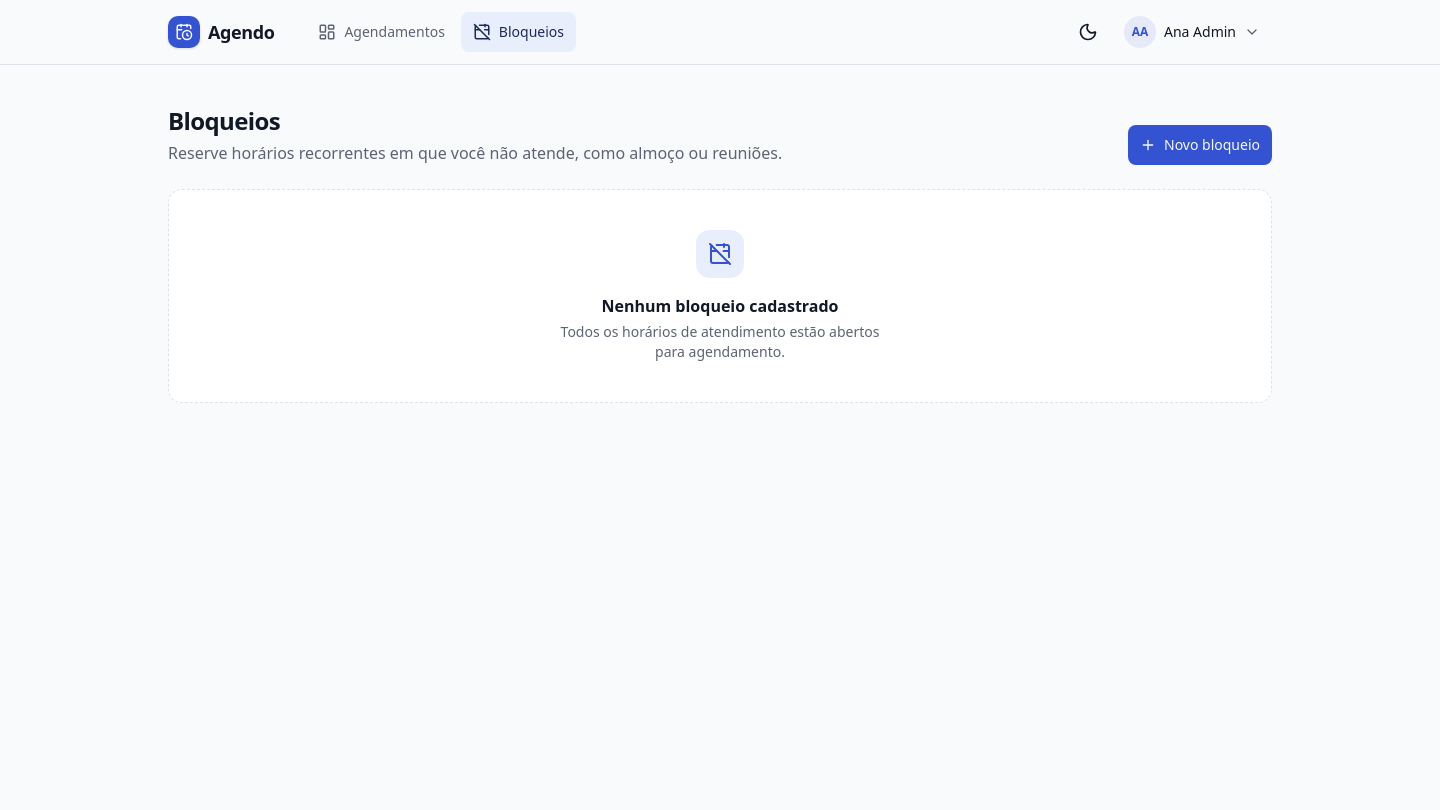
Test case: ScheduleBlocksPage › picks weekdays with the shortcuts and lists the appointments a new block would hit
Click the button "Novo bloqueio" at (1200, 145), box [1128,125,1272,165]
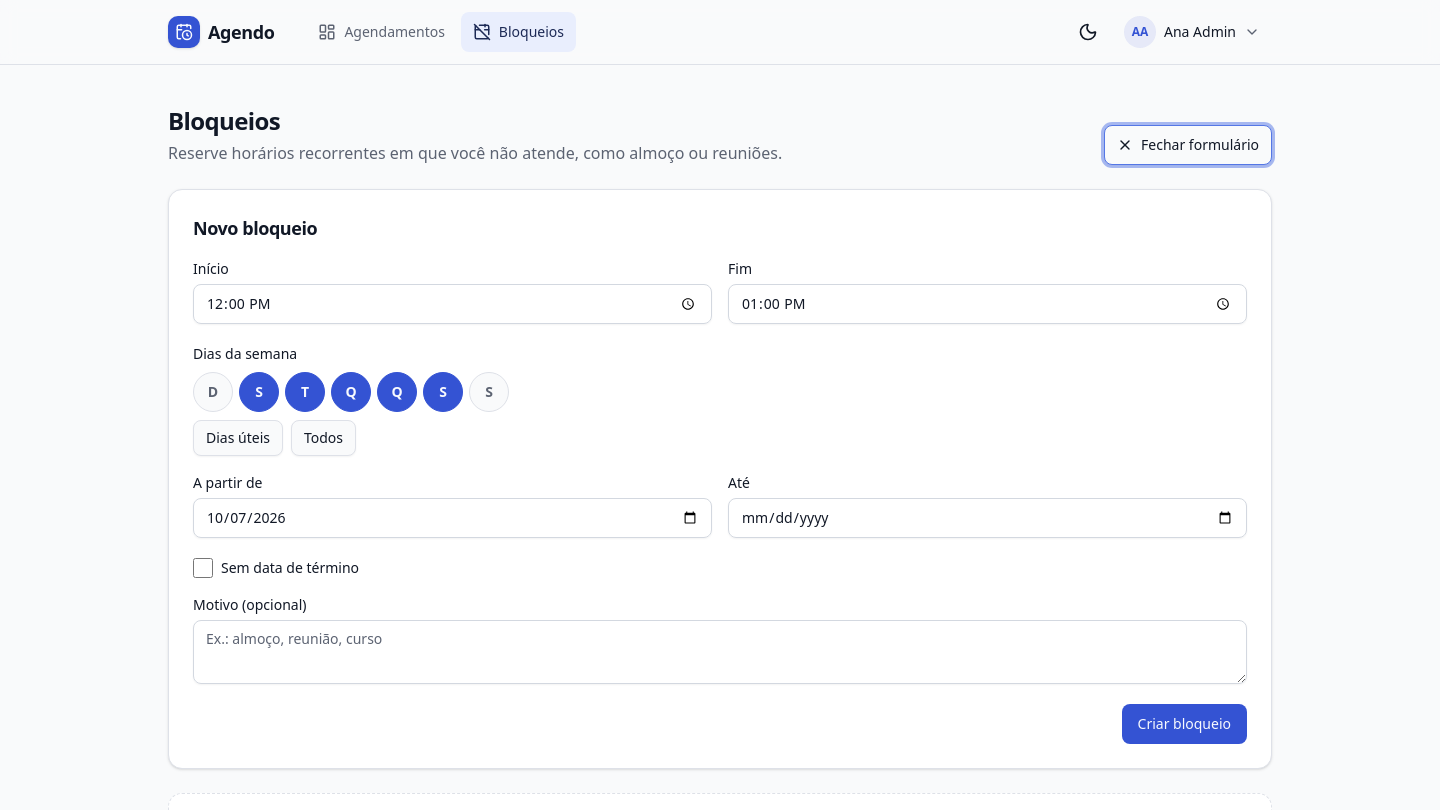
Click the button "Todos" at (324, 438), box [291,420,356,456]
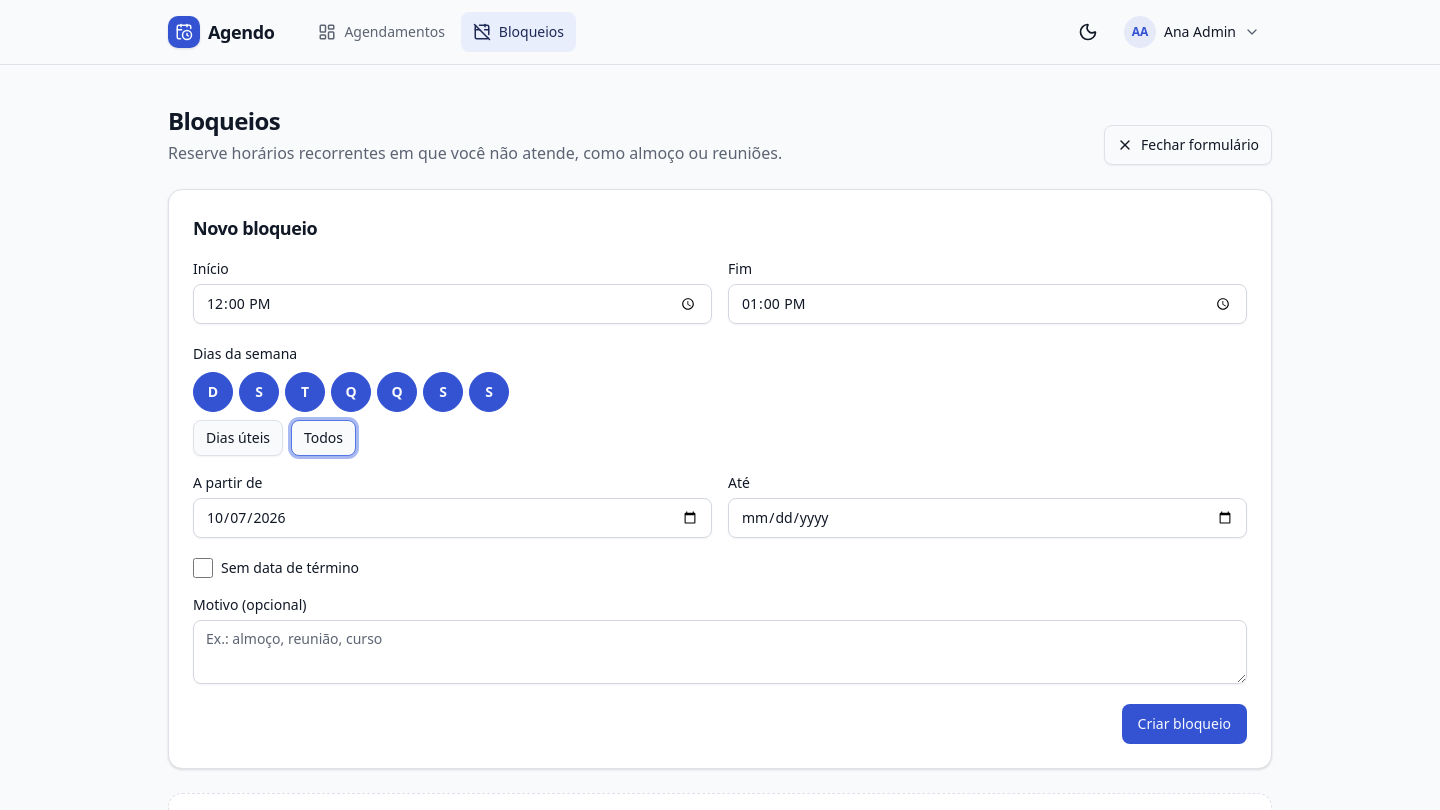
Click the button named "Domingo" at (213, 392), box [193,372,233,412]
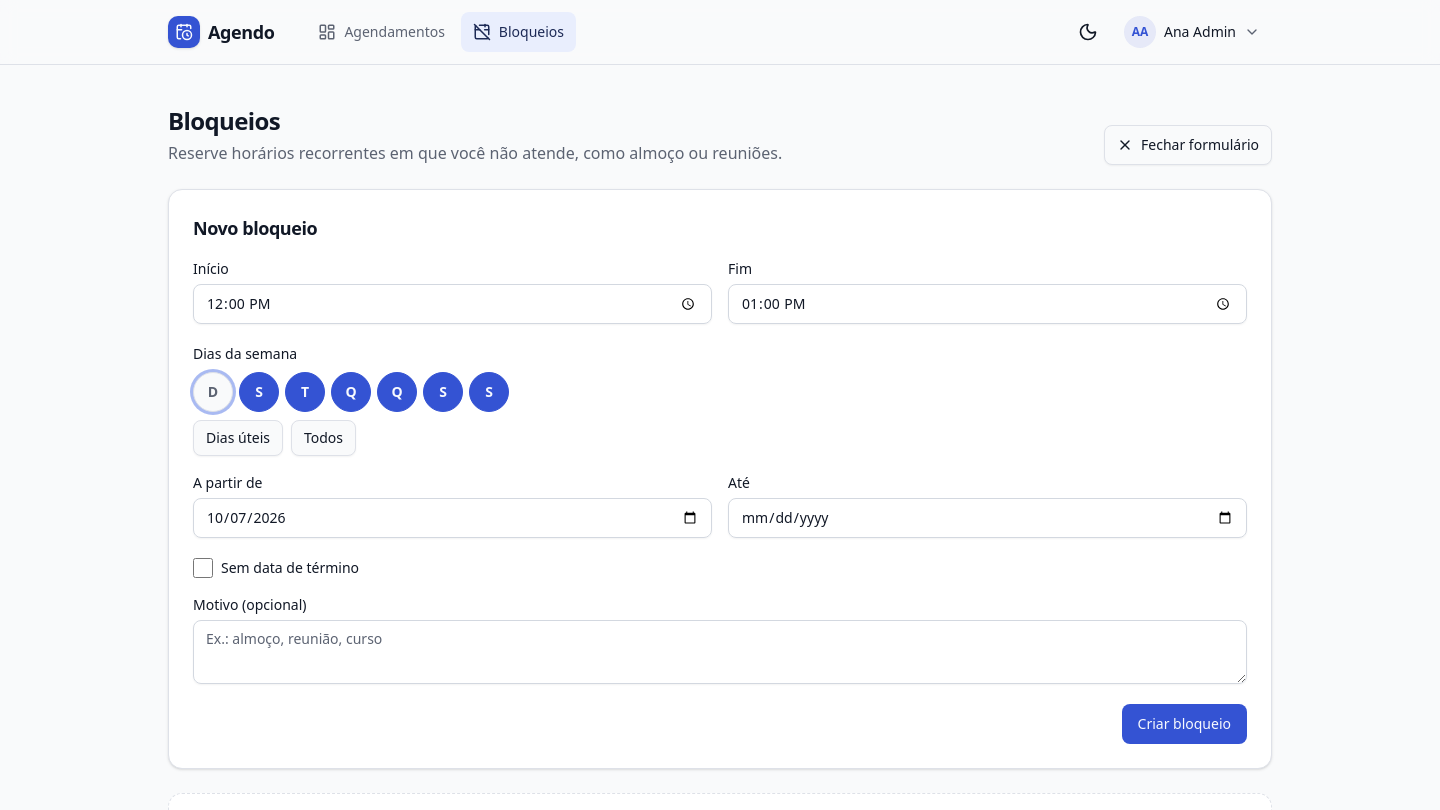
Click the checkbox labelled "Sem data de término" at (203, 568), box [193,558,213,578]
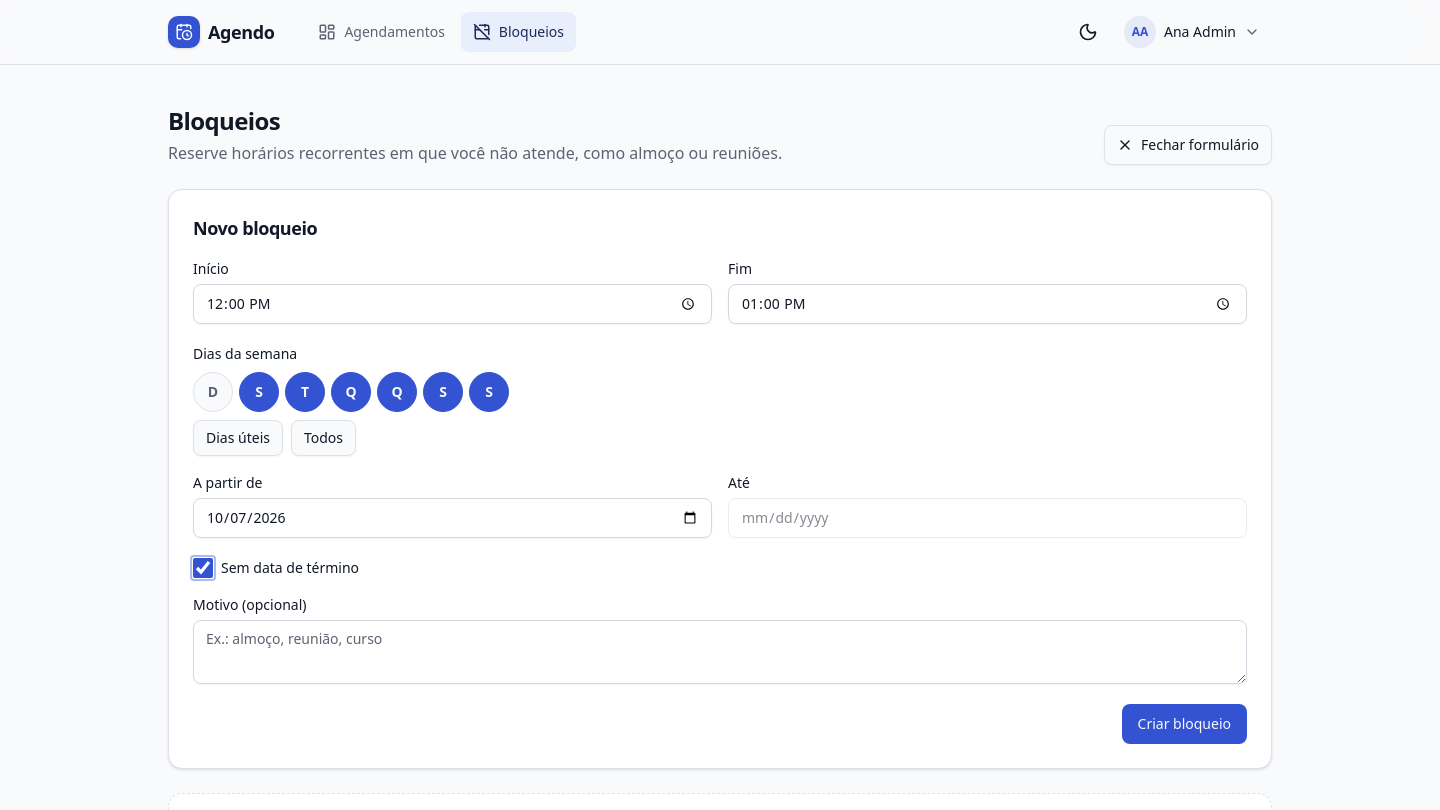
Click the button "Criar bloqueio" at (1184, 724), box [1122,704,1247,744]
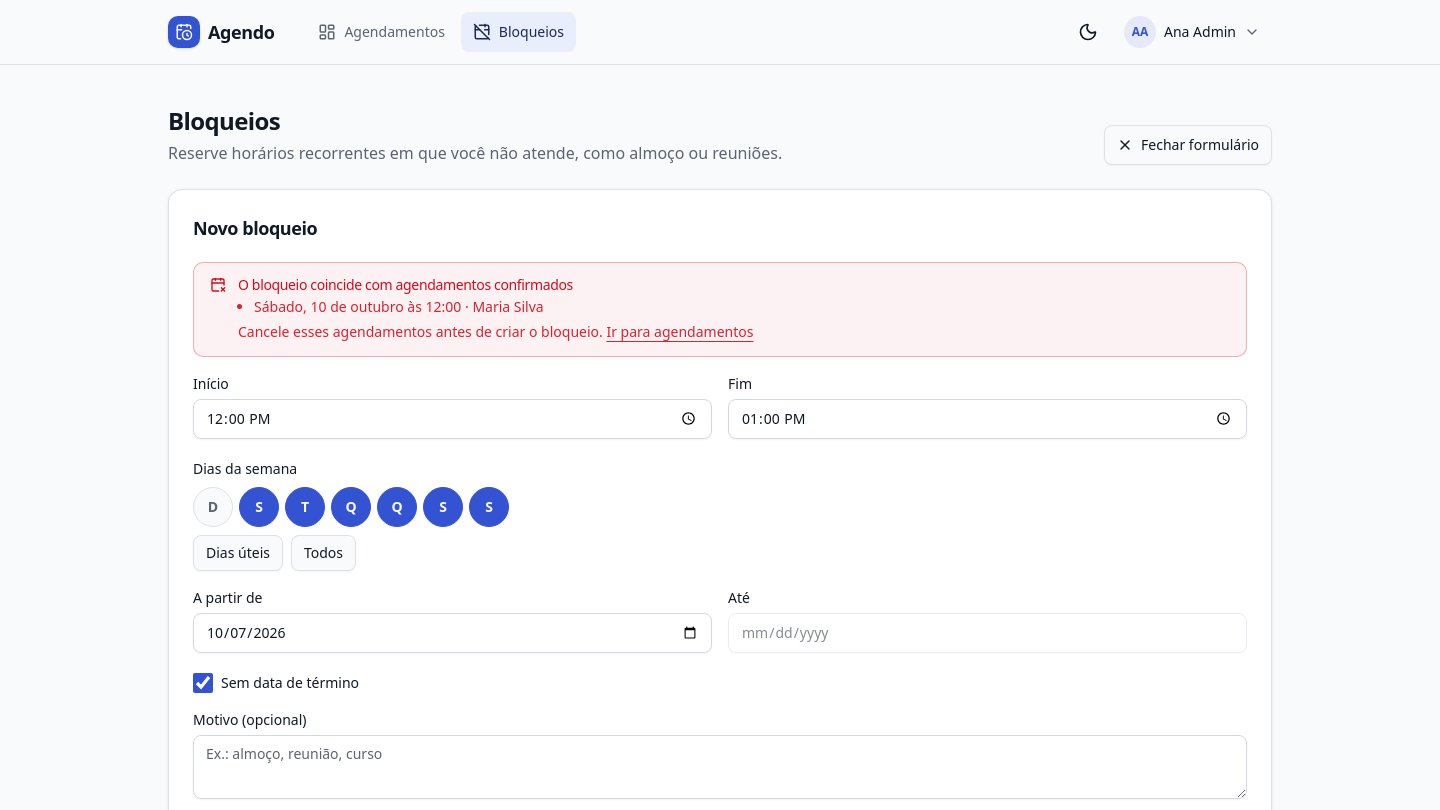
Now the text "O bloqueio coincide com agendamentos confirmados" is shown, box [238,275,573,294]
Now the list item "Sábado, 10 de outubro às 12:00 · Maria Silva" is shown, box [254,297,544,317]
